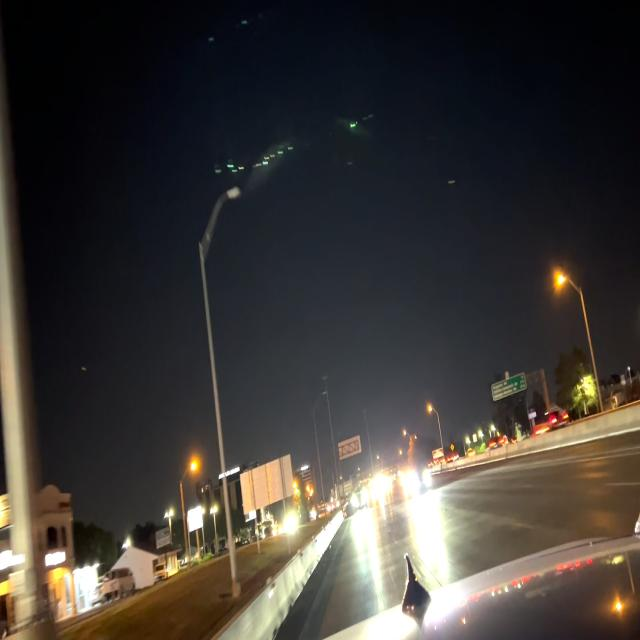back-of-sign: (241, 452, 294, 515)
